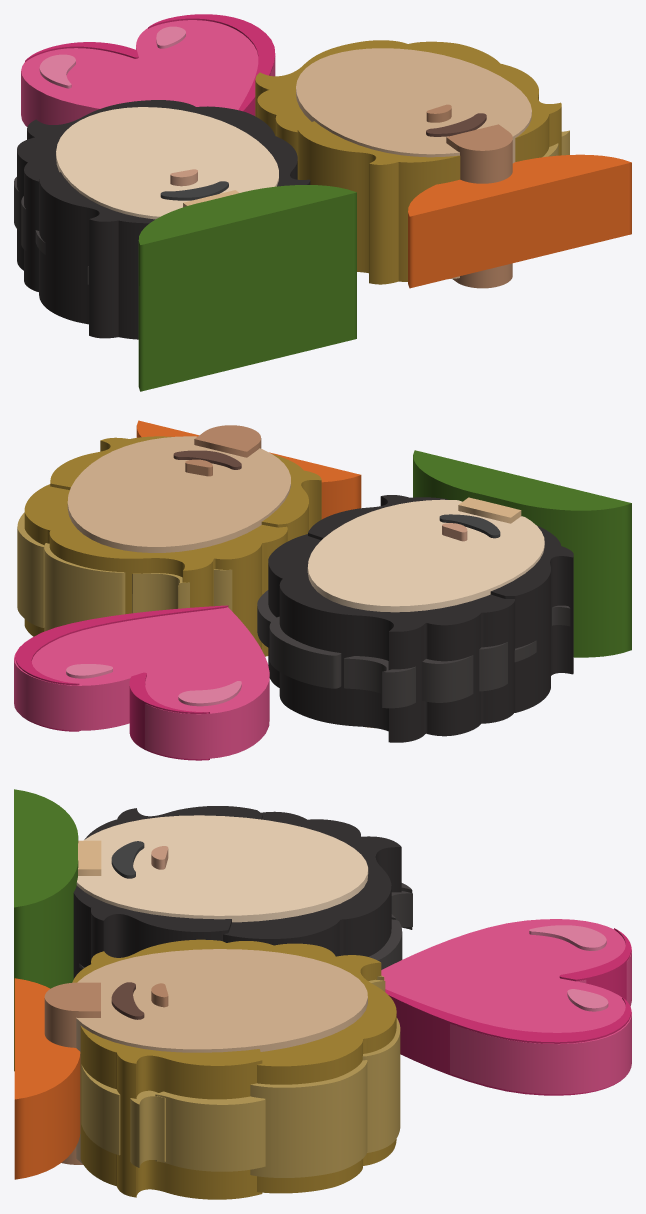
The model's file is emoji_u1f9d1_1f3fb_200d_2764_200d_1f9d1_1f3fc.glb.
The picture shows the model from 3 angles, top to bottom: view 1: azimuth 30°, elevation 25°; view 2: azimuth 150°, elevation 25°; view 3: azimuth 270°, elevation 25°; orthographic projection. The views are drawn at different scales.
Visible parts, largest first — view 1: emoji_u1f9d1_1f3fb_200d_2764_200d_1f9d1_1f3fc; view 2: emoji_u1f9d1_1f3fb_200d_2764_200d_1f9d1_1f3fc; view 3: emoji_u1f9d1_1f3fb_200d_2764_200d_1f9d1_1f3fc.
Part boxes in pixels (x1,y1,x2,y2): emoji_u1f9d1_1f3fb_200d_2764_200d_1f9d1_1f3fc: (14, 14, 631, 391); emoji_u1f9d1_1f3fb_200d_2764_200d_1f9d1_1f3fc: (14, 420, 631, 760); emoji_u1f9d1_1f3fb_200d_2764_200d_1f9d1_1f3fc: (14, 789, 631, 1199).
Size of the model in its own units: 0.0345 by 0.0098 by 0.0335.
